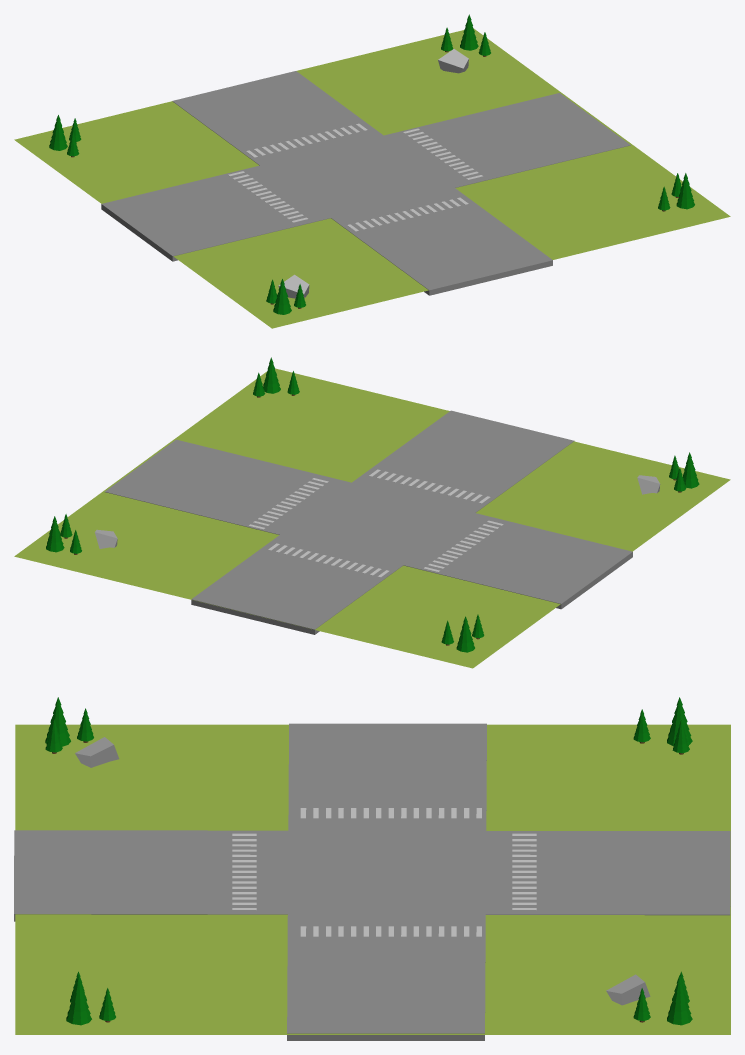
The model's file is Street environment_V01.FBX.
3 views of the same model, one above another, from view 1: azimuth 30°, elevation 25°; view 2: azimuth 150°, elevation 25°; view 3: azimuth 270°, elevation 25° (orthographic). The views are drawn at different scales.
Visible parts, largest first — view 1: Plane001; view 2: Plane001; view 3: Plane001.
Part boxes in pixels (x1,y1,x2,y2): Plane001: (14,14,730,328); Plane001: (14,357,730,668); Plane001: (14,697,730,1040).
Size of the model in its own units: 9686 by 868 by 9437.
